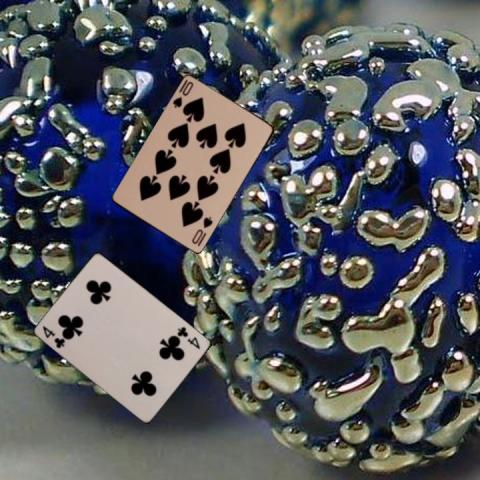10s: (189, 214, 214, 246), (169, 79, 195, 109)
4c: (175, 323, 202, 351), (40, 323, 67, 350)
